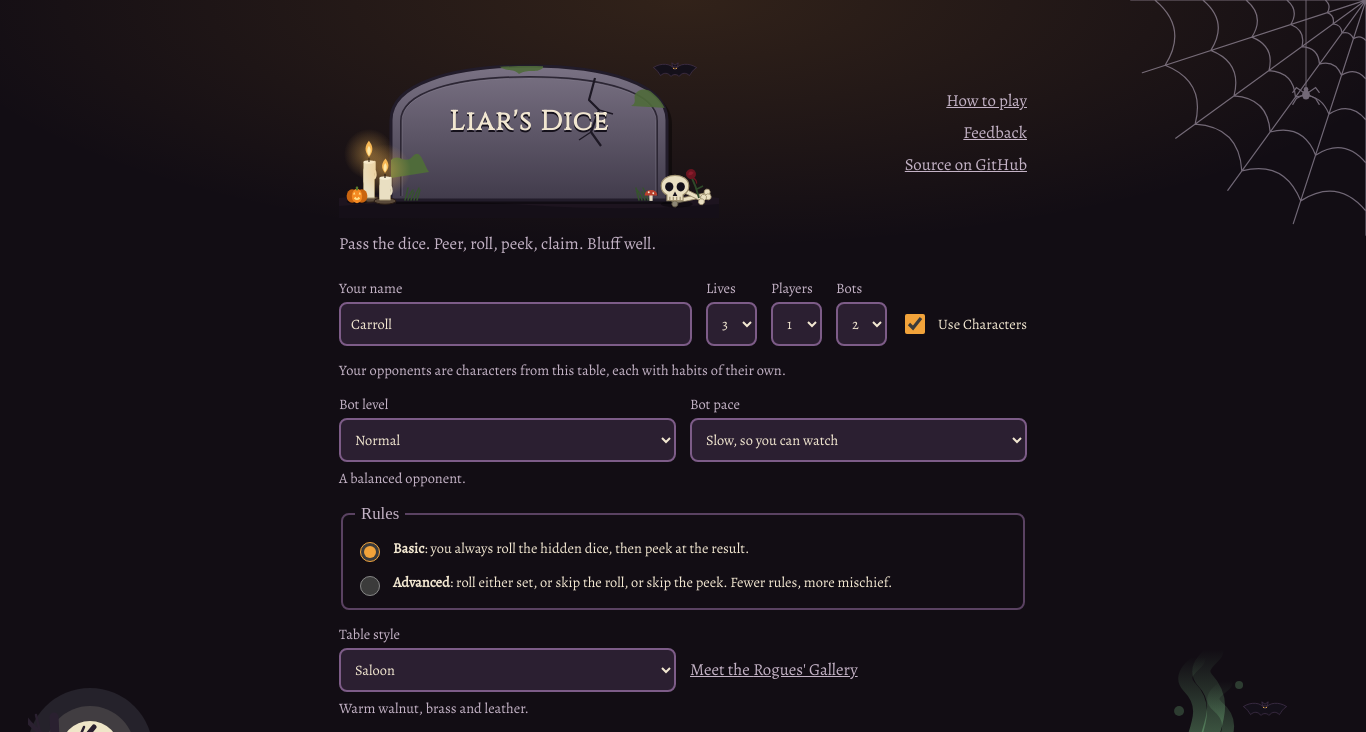
it: Setup characters › explains what the box does
Expected: the text "characters from this table" is shown, top-left (339, 360), bottom-right (786, 380)
Step 1. Click the checkbox labelled "Use Characters" → x=915, y=324, box top-left (905, 314), bottom-right (925, 334)
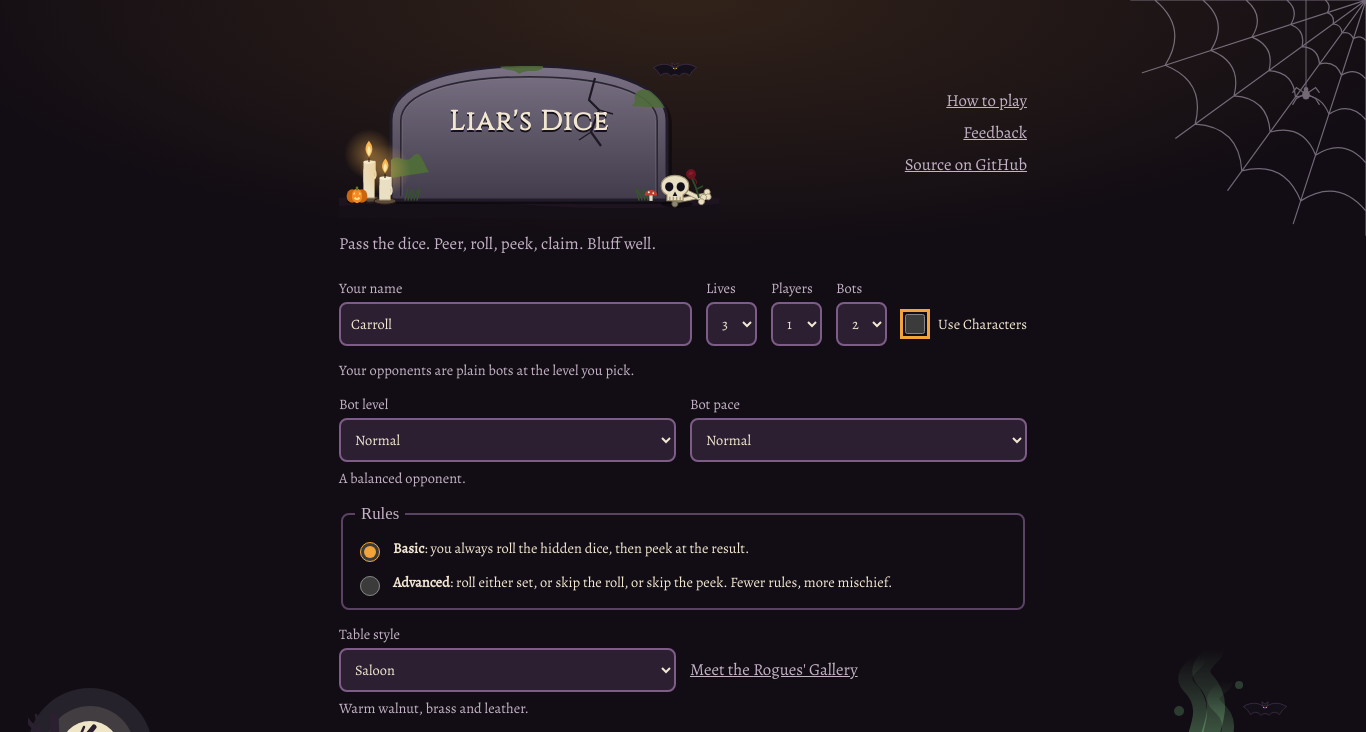
Now the text "Your opponents are plain bots at the level you pick." is shown, box top-left (339, 360), bottom-right (635, 380)
